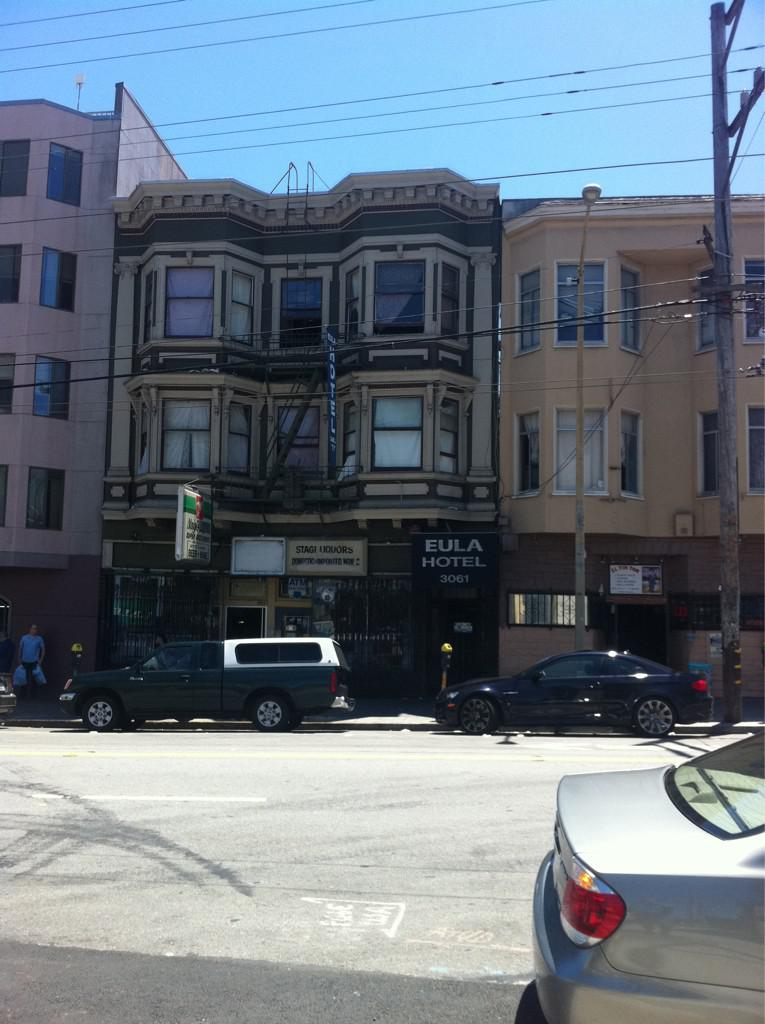Car: (522, 728, 764, 1022), (54, 632, 337, 728), (431, 643, 718, 737)
